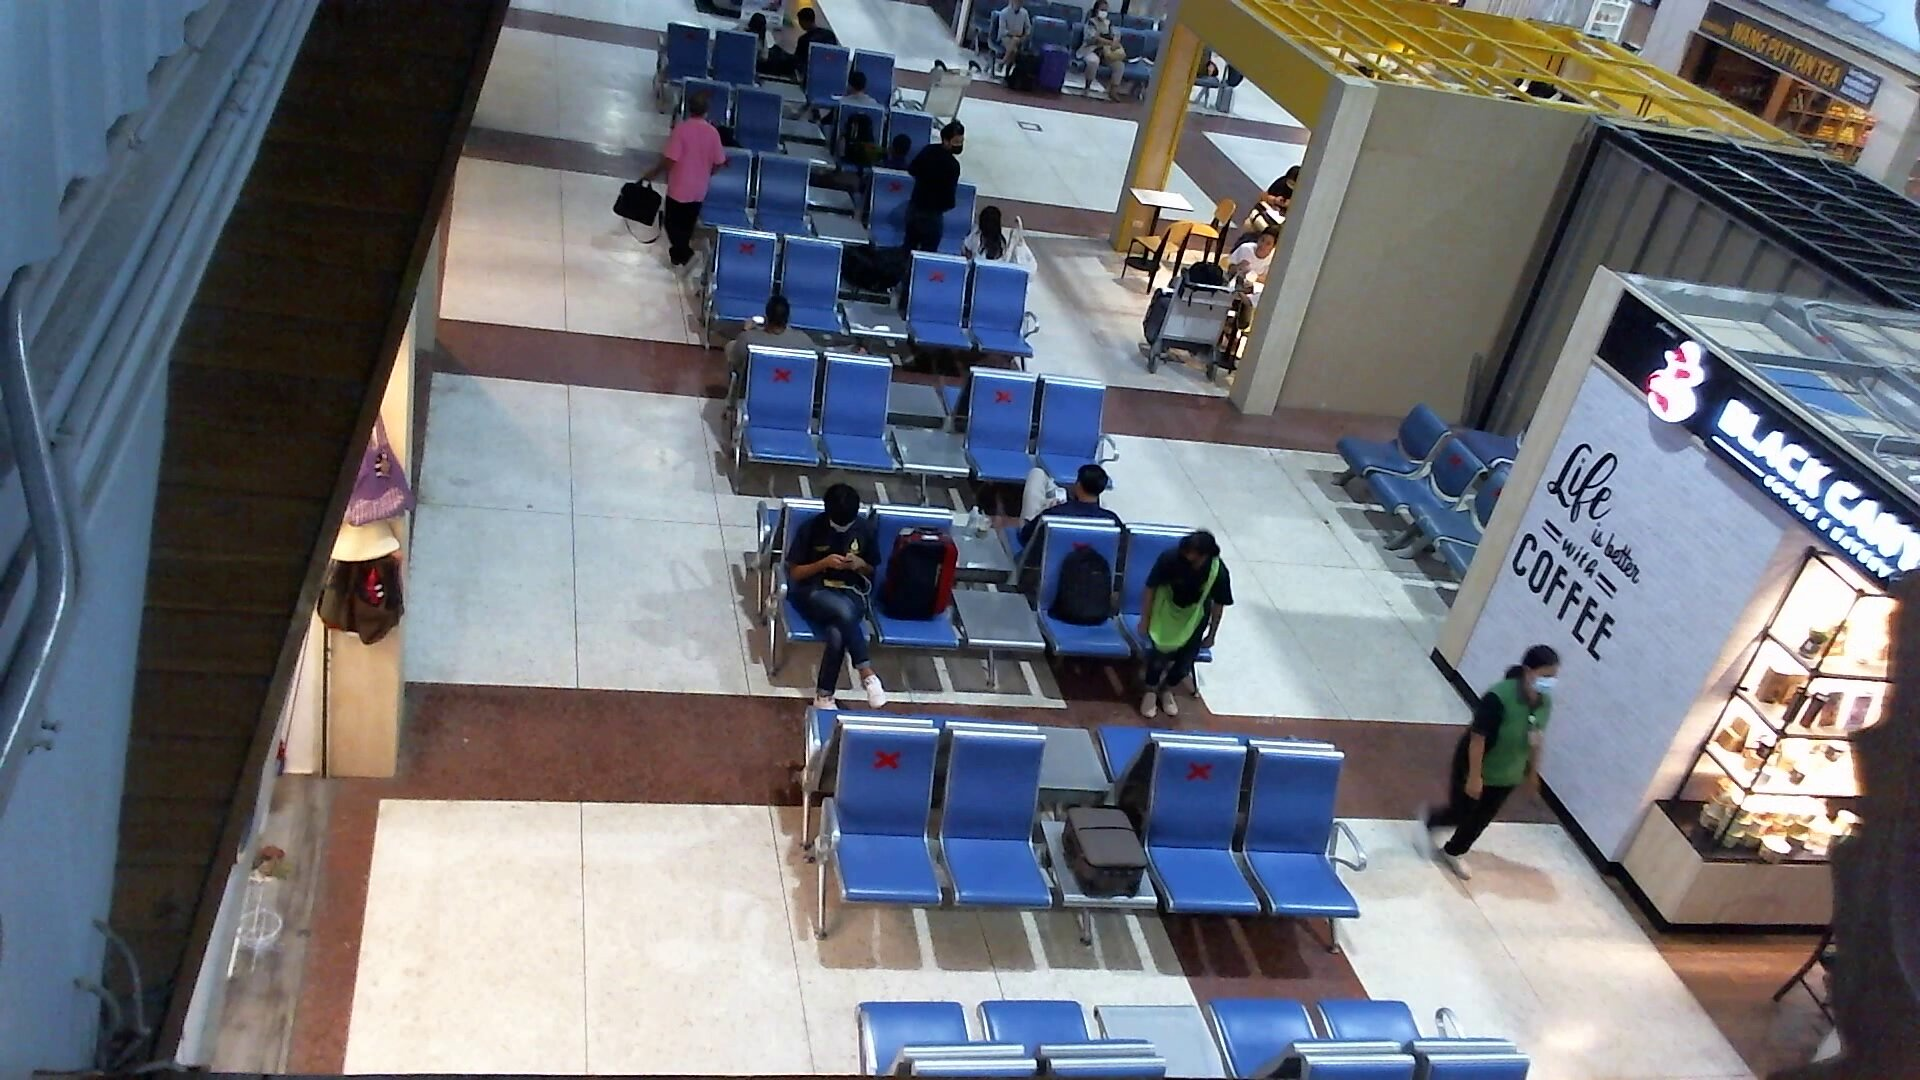backpack: (1048, 539, 1122, 634)
bag: (1146, 576, 1215, 662), (612, 170, 677, 252)
luggage: (1055, 796, 1157, 914), (880, 527, 962, 627)
people: (1412, 627, 1575, 912), (768, 475, 899, 724), (1132, 524, 1242, 721), (641, 94, 732, 273), (897, 115, 978, 269), (1012, 450, 1129, 556)
